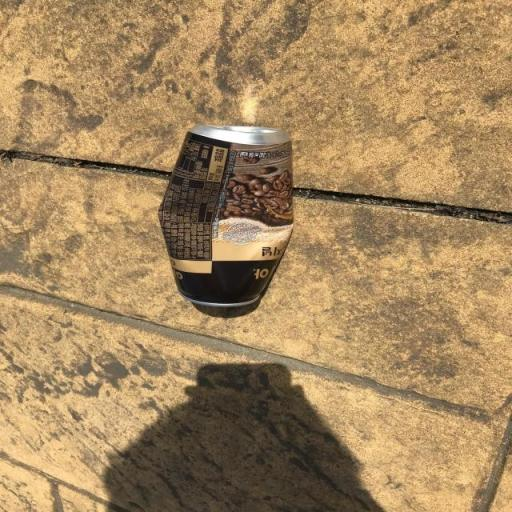metal: (121, 97, 337, 352)
